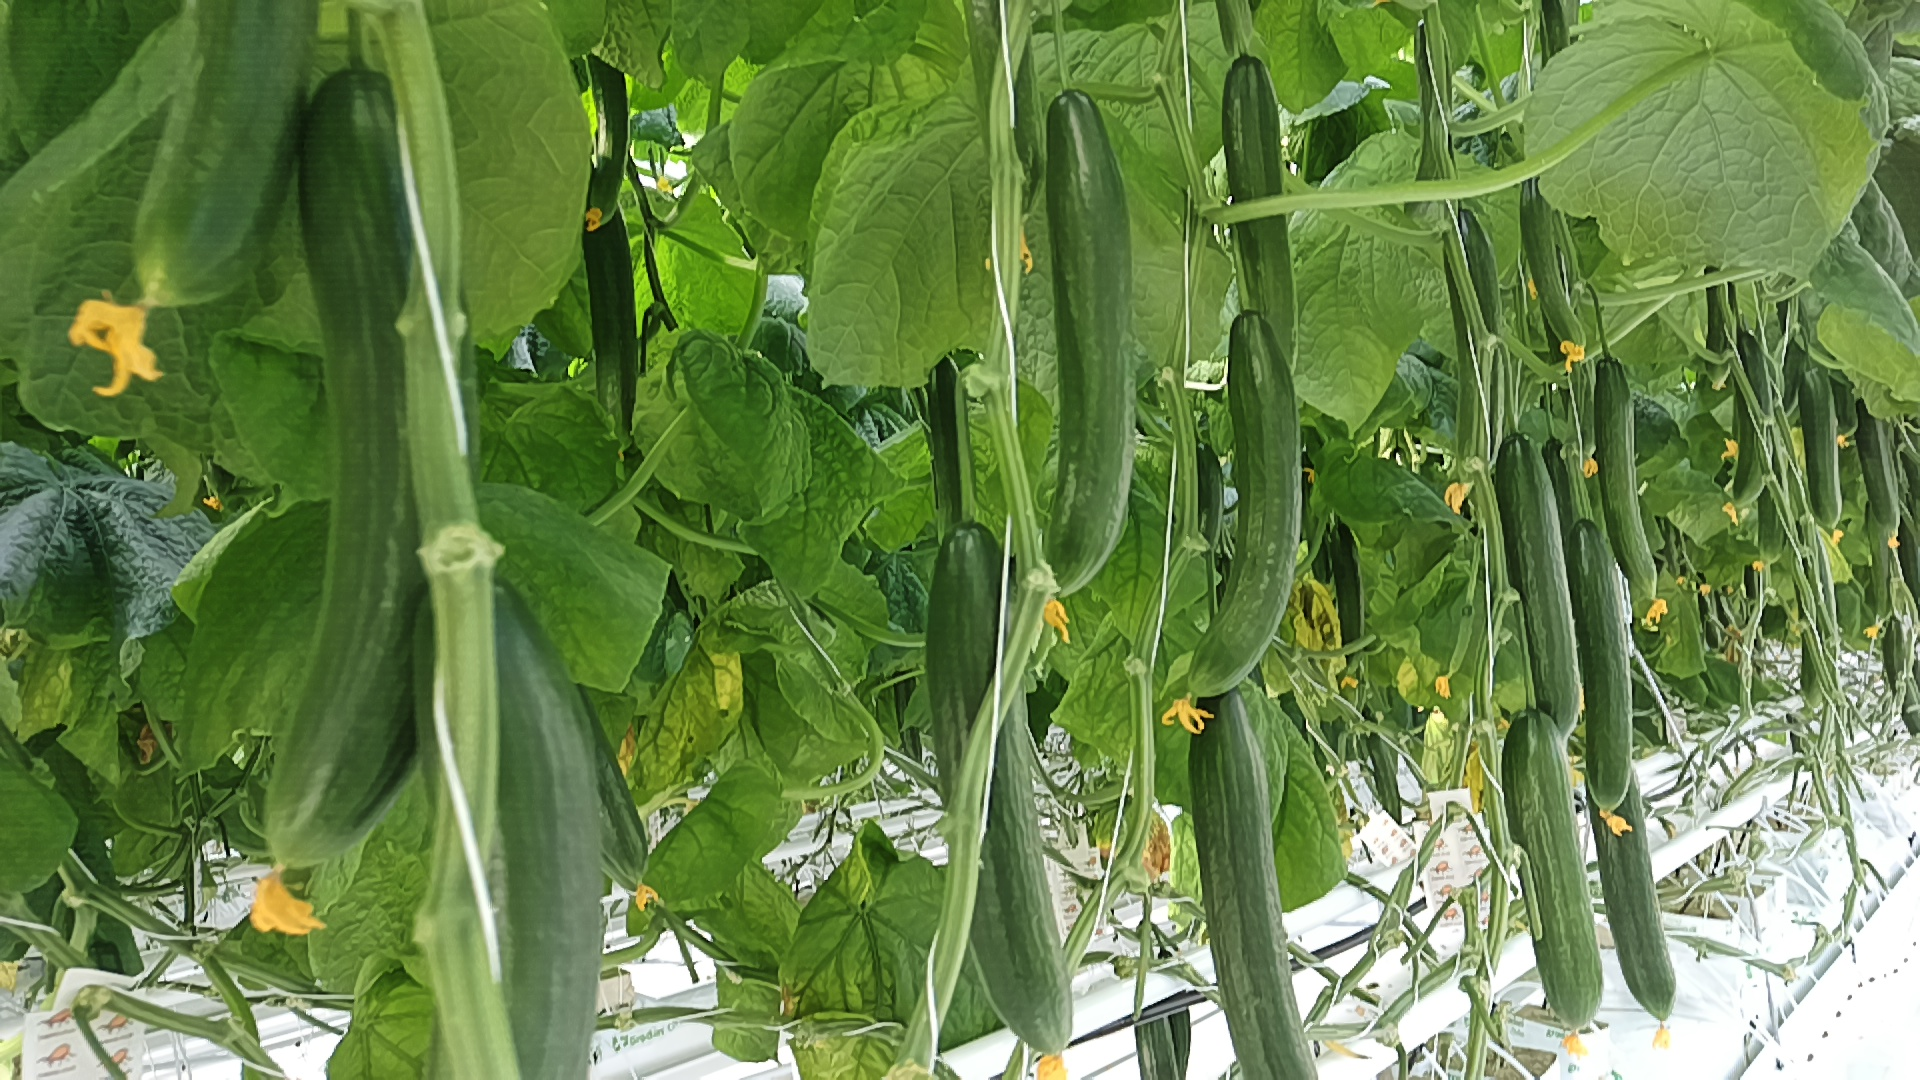gurka: (266, 63, 505, 934), (916, 513, 1098, 1063), (1022, 87, 1150, 608), (1187, 305, 1316, 716), (1489, 702, 1615, 1022), (1480, 425, 1592, 742), (1226, 51, 1323, 357), (1557, 505, 1642, 822)
